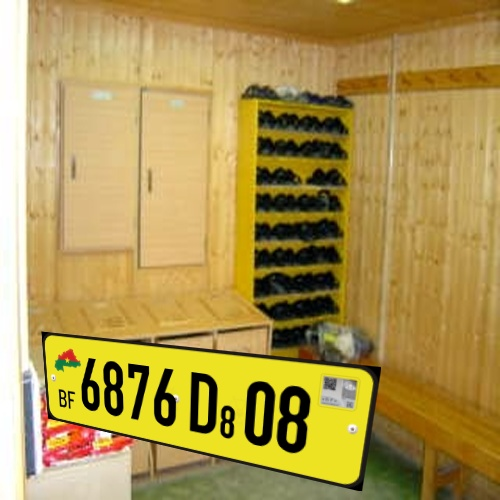plate: (29, 314, 395, 491)
